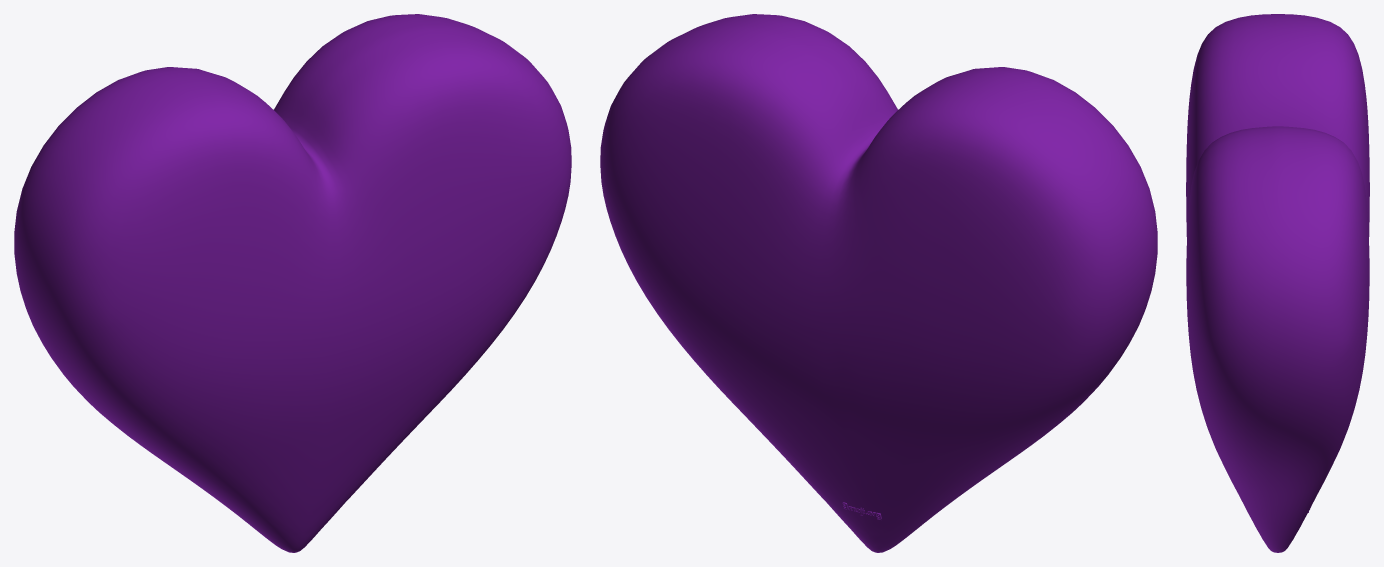
Rendered from purple_heart.fbx.
3 views of the same model, side by side, from view 1: azimuth 30°, elevation 25°; view 2: azimuth 150°, elevation 25°; view 3: azimuth 270°, elevation 25° (orthographic). The views are drawn at different scales.
Parts seen in each view (by area): view 1: hfdjkslfjkds.023; view 2: hfdjkslfjkds.023; view 3: hfdjkslfjkds.023.
Boxes of the visible parts, x1,y1,x2,y2 form: hfdjkslfjkds.023: (14, 14, 571, 552); hfdjkslfjkds.023: (600, 14, 1157, 552); hfdjkslfjkds.023: (1186, 14, 1369, 552).
Bounding box in the file's own units: 186 × 168 × 59.56.
Materials: 1 (1 with a texture image).
